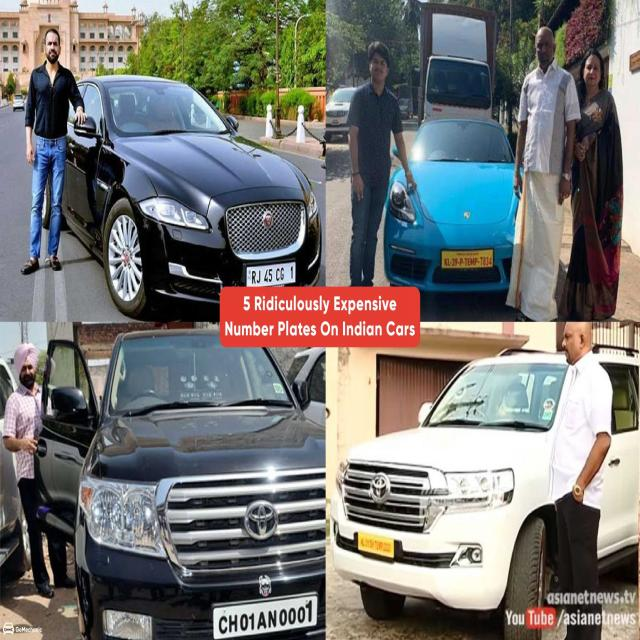plate: (212, 593, 322, 634), (439, 243, 500, 272), (242, 262, 302, 285)
